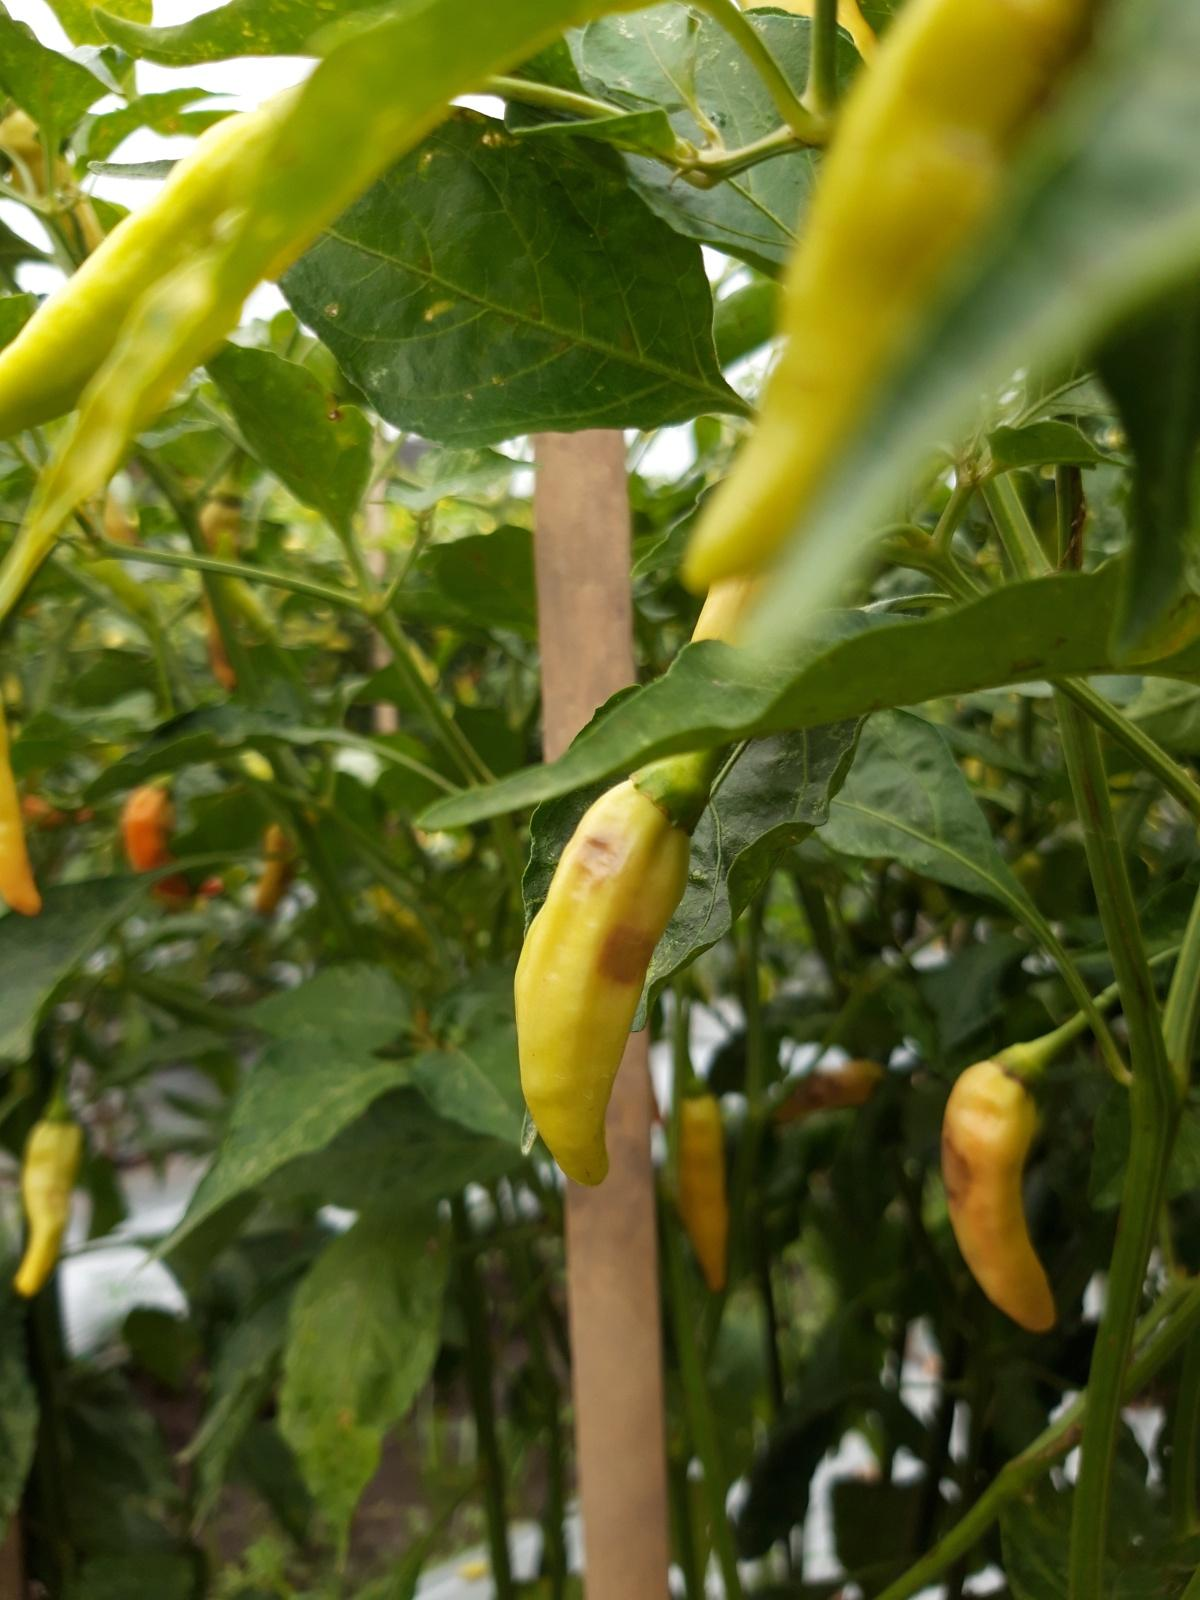cabai_normal: (676, 1, 1094, 592), (11, 1119, 86, 1296), (666, 1091, 729, 1291), (117, 784, 194, 910)
lalat_buah: (513, 771, 698, 1188), (939, 1053, 1059, 1333)
